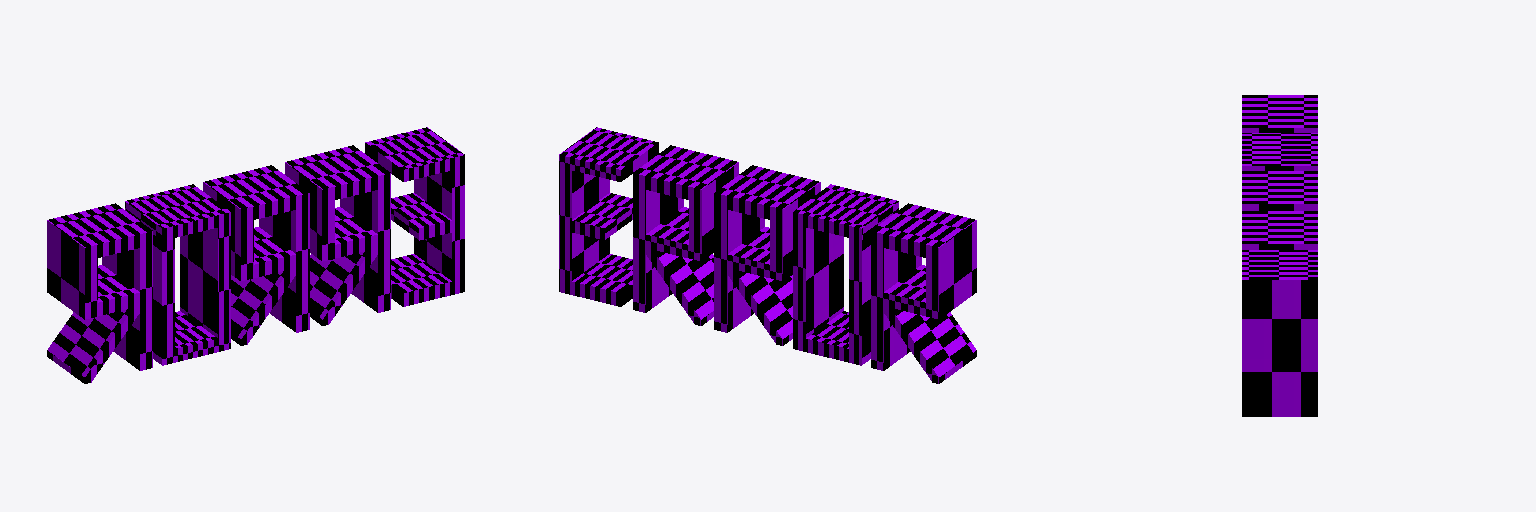
3 views of the same model, side by side, from view 1: azimuth 30°, elevation 25°; view 2: azimuth 150°, elevation 25°; view 3: azimuth 270°, elevation 25° (orthographic).
Visible parts, largest first — view 1: Cube.004_Cube.006, Cube.001_Cube.003, Cube.003_Cube.005, Cube.002_Cube.004, Cube_Cube.002; view 2: Cube.004_Cube.006, Cube.001_Cube.003, Cube.003_Cube.005, Cube.002_Cube.004, Cube_Cube.002; view 3: Cube_Cube.002, Cube.002_Cube.004, Cube.001_Cube.003, Cube.003_Cube.005, Cube.004_Cube.006.
Boxes of the visible parts, x1=… form: Cube.004_Cube.006: x1=47, y1=203, x2=152, y2=383; Cube.001_Cube.003: x1=285, y1=145, x2=390, y2=325; Cube.003_Cube.005: x1=125, y1=184, x2=230, y2=365; Cube.002_Cube.004: x1=203, y1=165, x2=309, y2=345; Cube_Cube.002: x1=365, y1=127, x2=464, y2=306; Cube.004_Cube.006: x1=871, y1=203, x2=976, y2=383; Cube.001_Cube.003: x1=633, y1=145, x2=738, y2=325; Cube.003_Cube.005: x1=793, y1=184, x2=898, y2=365; Cube.002_Cube.004: x1=714, y1=165, x2=820, y2=345; Cube_Cube.002: x1=559, y1=127, x2=658, y2=306; Cube_Cube.002: x1=1242, y1=250, x2=1317, y2=416; Cube.002_Cube.004: x1=1242, y1=171, x2=1317, y2=210; Cube.001_Cube.003: x1=1242, y1=211, x2=1317, y2=249; Cube.003_Cube.005: x1=1242, y1=133, x2=1317, y2=170; Cube.004_Cube.006: x1=1242, y1=95, x2=1317, y2=132.
Bounding box in the file's own units: 11.63 × 4 × 2.
1 materials, 1 textured.